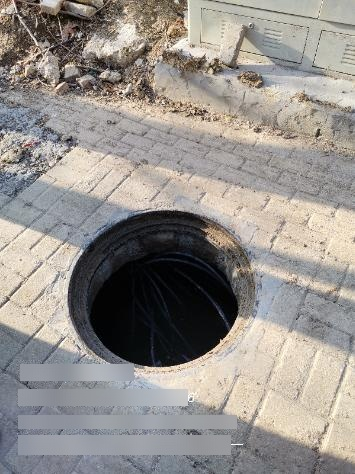lose: (68, 211, 258, 375)
